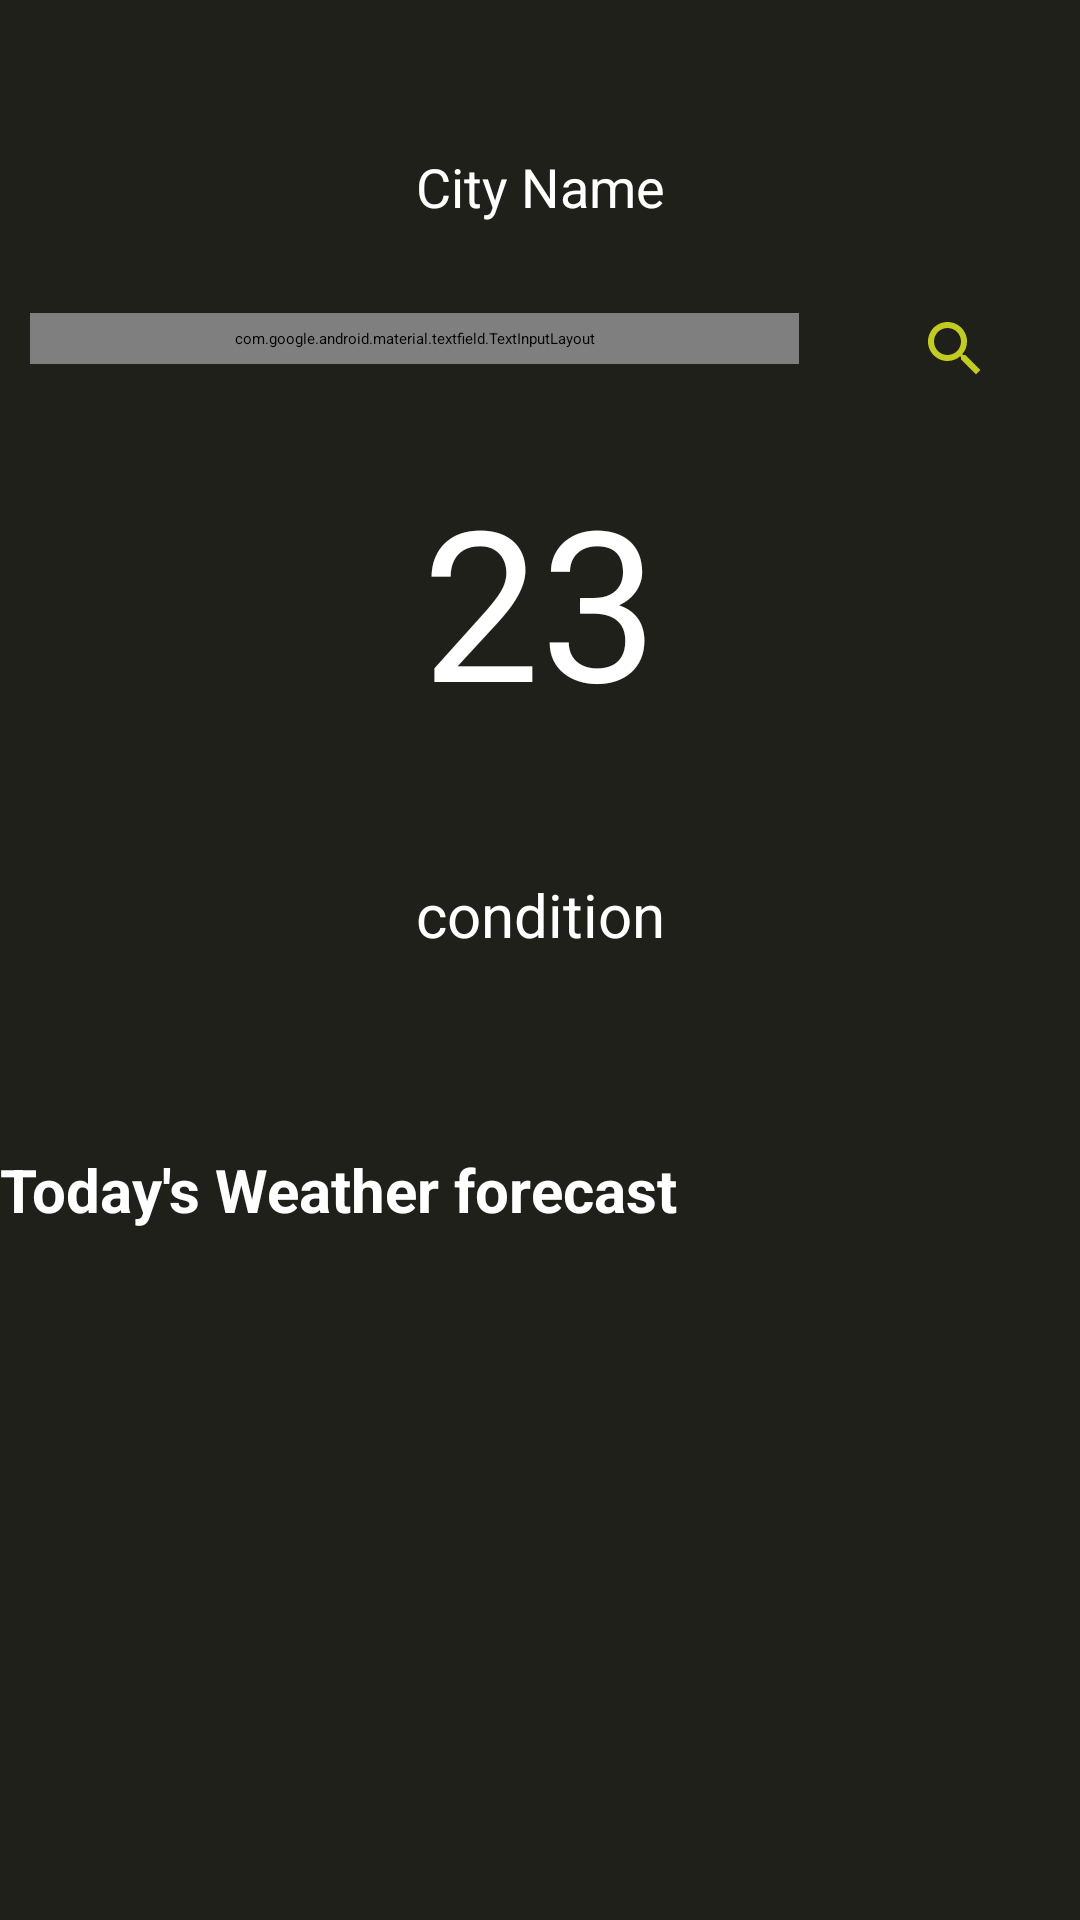

Screen size 1080px x 1920px. Icon name, then its box in pixels as (x1, y1, x2, y2):
search: (928, 322, 980, 374)
